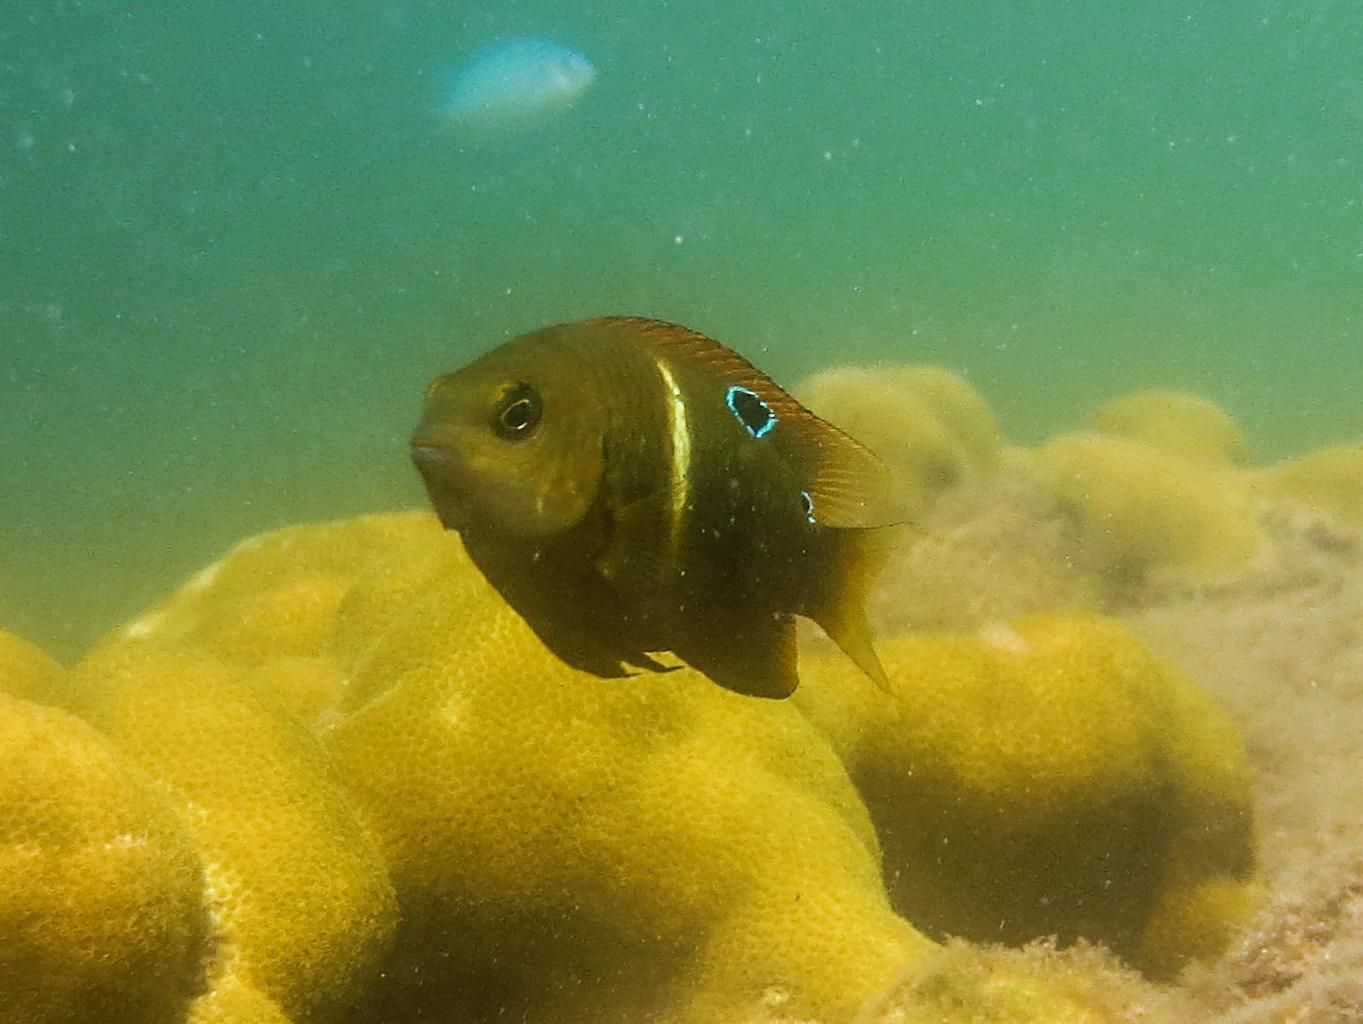Fish: (310, 237, 984, 750)
